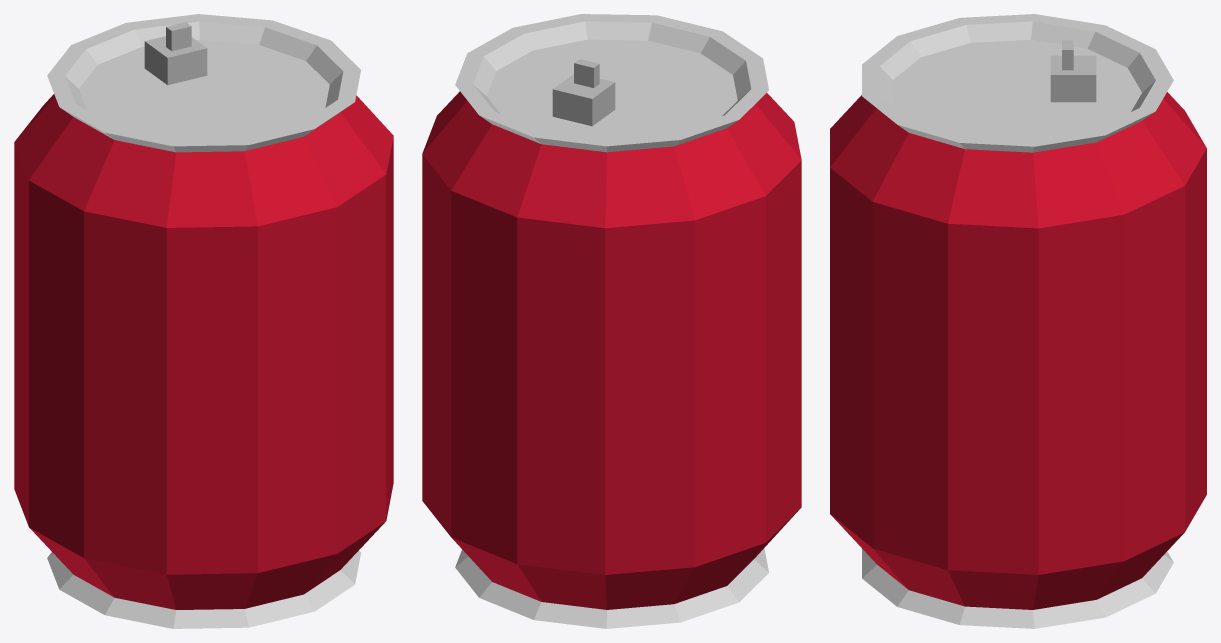
File: SoftDrink1_Red.fbx
The picture shows the model from 3 angles, left to right: view 1: azimuth 30°, elevation 25°; view 2: azimuth 150°, elevation 25°; view 3: azimuth 270°, elevation 25°; orthographic projection.
Parts seen in each view (by area): view 1: Cylinder.001; view 2: Cylinder.001; view 3: Cylinder.001.
Boxes of the visible parts, box(x1,y1,x2,y2) form: Cylinder.001: box(14, 14, 393, 628); Cylinder.001: box(422, 14, 801, 628); Cylinder.001: box(830, 14, 1206, 628).
Size of the model in its own units: 199 by 299 by 197.
